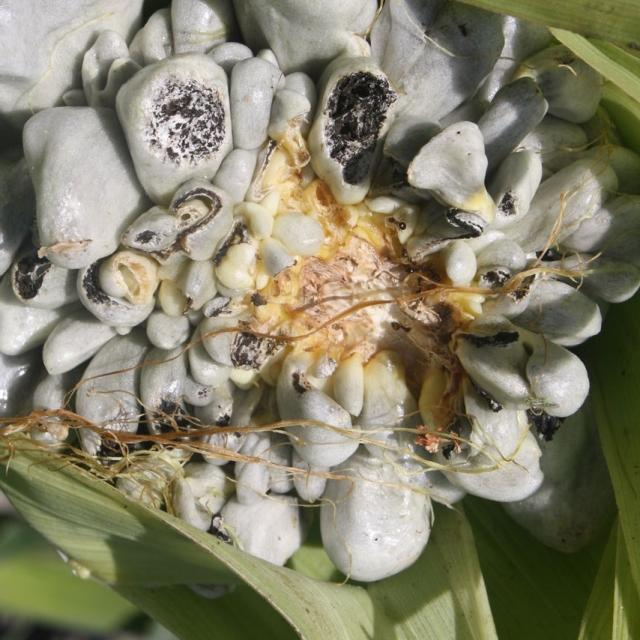Leaf_Scald: (0, 0, 640, 580)
